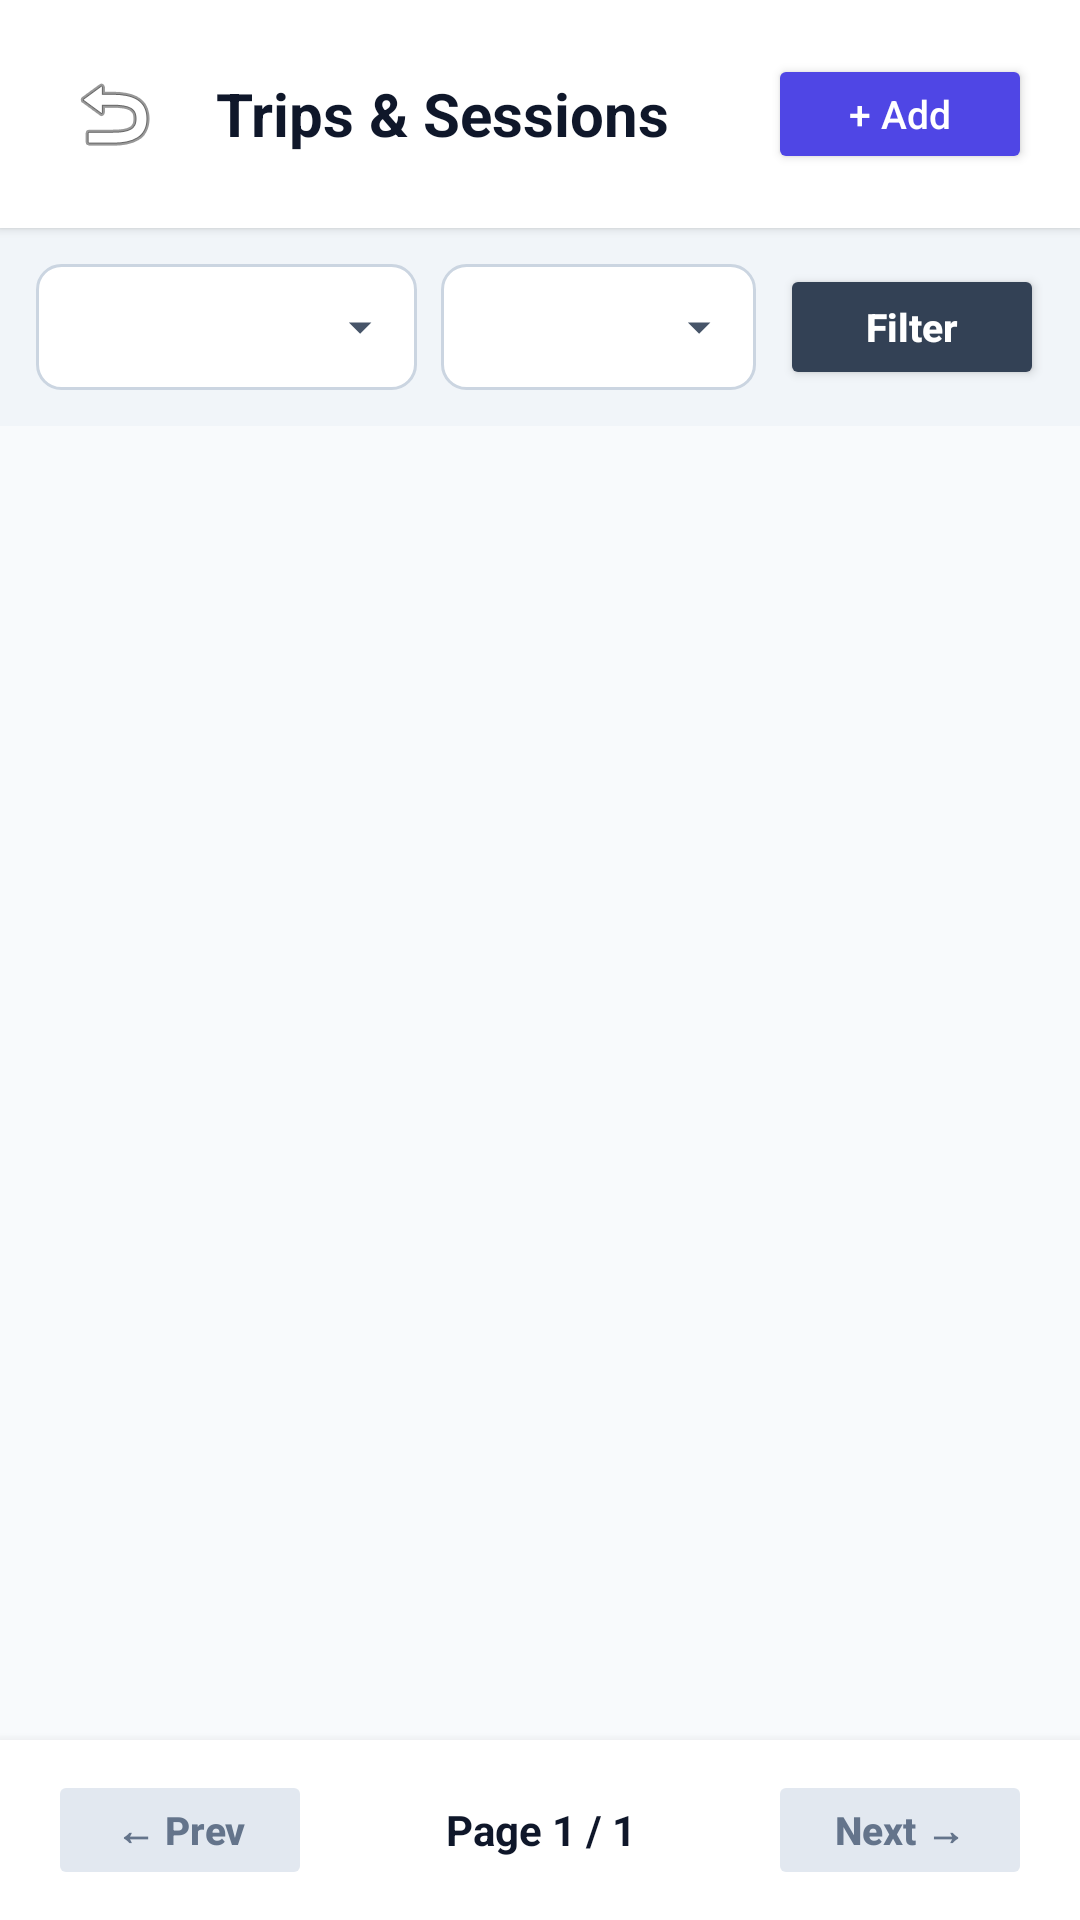

Icon bounding boxes for this 1080 × 1920 phone screenshot, format (x1, y1, x2, y2):
Back: (81, 83, 150, 146)
